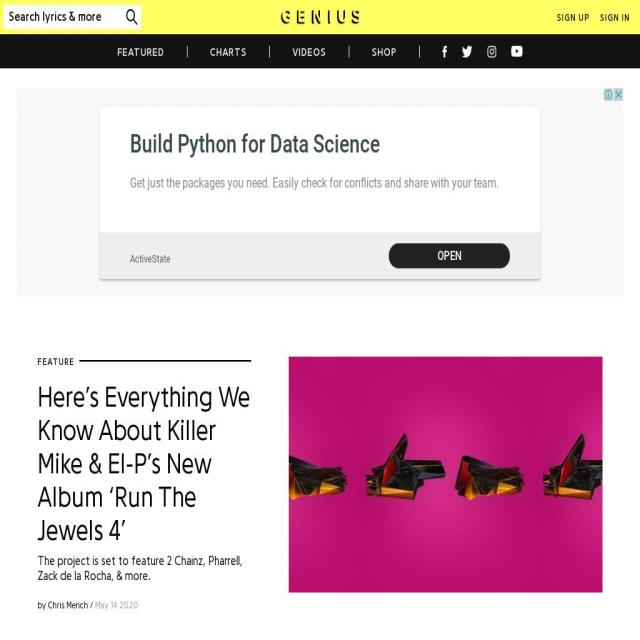button: (288, 356, 603, 612), (38, 356, 252, 612), (280, 6, 360, 28), (95, 45, 187, 57), (187, 45, 270, 57), (270, 45, 350, 57), (349, 45, 420, 57), (557, 8, 590, 26), (600, 8, 630, 26), (462, 45, 473, 57), (487, 45, 497, 57), (512, 46, 522, 56), (442, 45, 448, 57)
field: (3, 8, 122, 26)
heading: (38, 382, 250, 545)
iframe: (17, 88, 623, 297)
image: (280, 8, 360, 25), (126, 9, 138, 25), (462, 45, 473, 57), (487, 45, 497, 57), (512, 46, 522, 56), (442, 45, 448, 57)
text: (288, 357, 603, 592), (38, 554, 252, 584), (37, 600, 95, 610), (117, 46, 165, 58), (210, 46, 248, 58), (95, 600, 138, 610), (292, 46, 327, 58), (37, 356, 74, 366), (557, 12, 590, 22), (600, 12, 630, 22), (372, 46, 397, 58)
